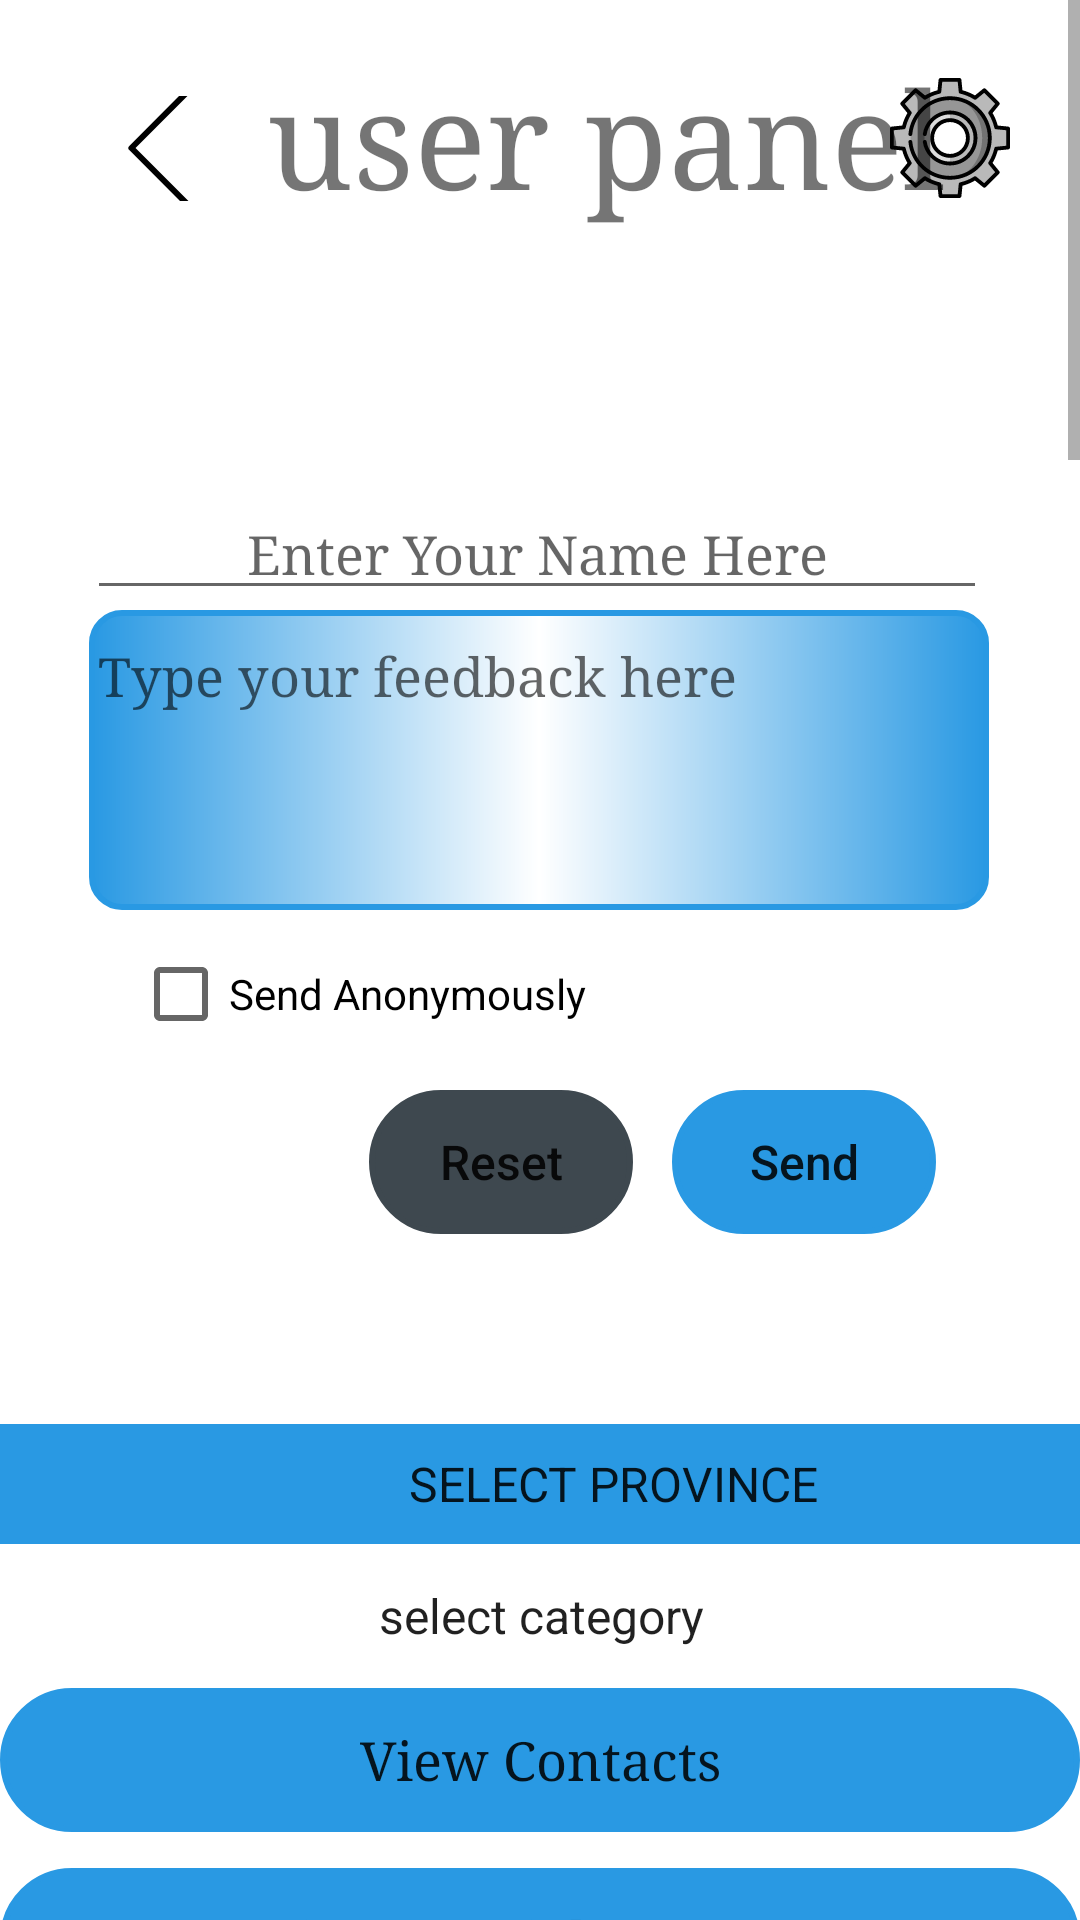

Point at icon controls on the screen. Image size 1080 x 1920, points as (x,y).
return back: (158,148)
